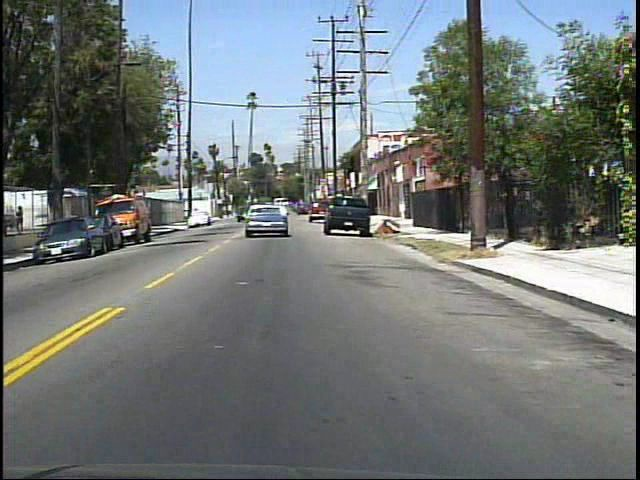person: (18, 203, 28, 235)
